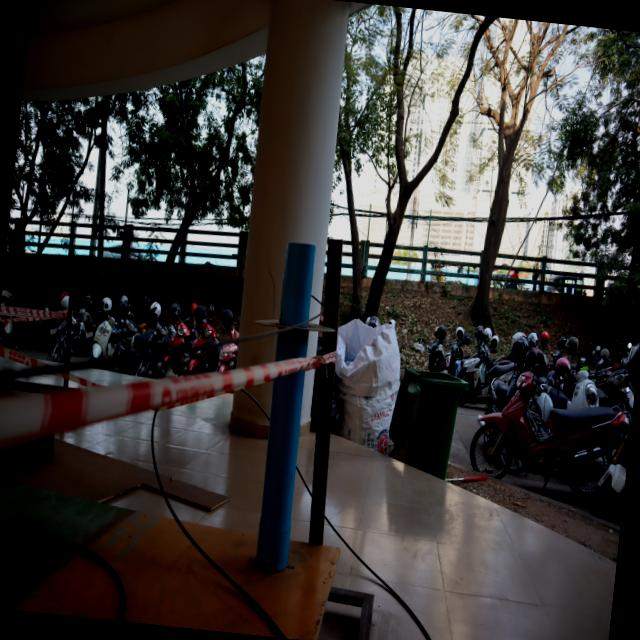pole: (236, 230, 348, 460)
